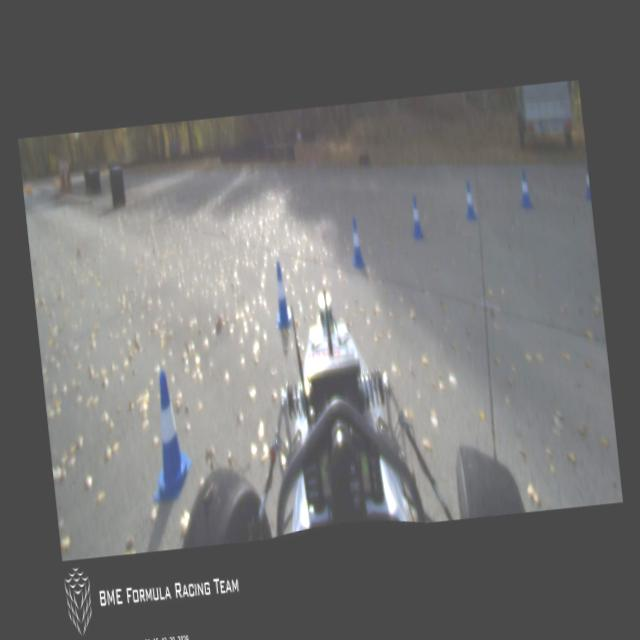blue_cone: (142, 370, 194, 499), (270, 260, 292, 328), (347, 216, 365, 269), (408, 196, 424, 240), (462, 179, 478, 221), (518, 171, 532, 209), (584, 169, 590, 202)
